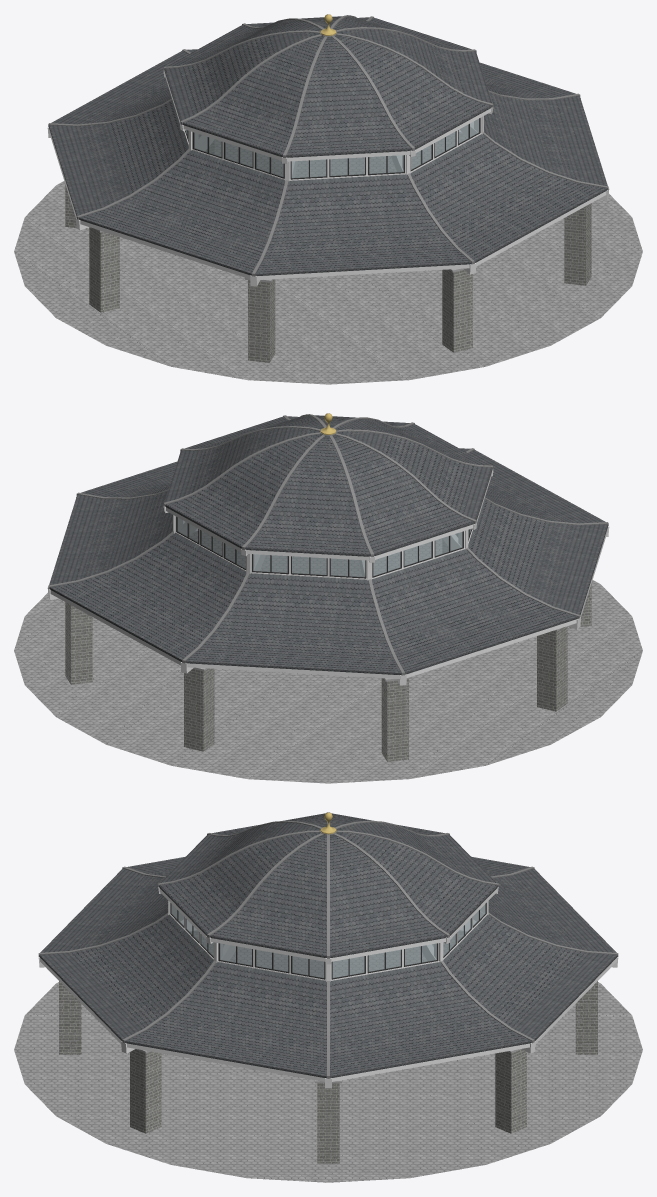
File: pavillion.dae
The picture shows the model from 3 angles, top to bottom: view 1: azimuth 30°, elevation 25°; view 2: azimuth 150°, elevation 25°; view 3: azimuth 270°, elevation 25°; orthographic projection.
Parts seen in each view (by area): view 1: group_21 (×7), group_0, group_20 (×7), stone_pillar (×4), crossbeam_11 (×3), group_6 (×3), crossbeam_12; view 2: group_21 (×7), group_0, group_20 (×7), stone_pillar (×4), crossbeam_11 (×3), group_6 (×3), crossbeam_12; view 3: group_21 (×8), group_0, group_20 (×6), stone_pillar (×5), group_6 (×6), crossbeam_11 (×2).
Part boxes in pixels (x1,y1,x2,y2): group_21 (×7): (48, 50, 607, 276); group_0: (14, 132, 642, 384); group_20 (×7): (164, 16, 492, 157); stone_pillar (×4): (89, 203, 591, 362); crossbeam_11 (×3): (80, 191, 606, 279); group_6 (×3): (291, 155, 403, 178); crossbeam_12: (287, 151, 410, 161); group_21 (×7): (49, 449, 608, 675); group_0: (14, 531, 642, 783); group_20 (×7): (164, 415, 492, 556); stone_pillar (×4): (65, 602, 567, 761); crossbeam_11 (×3): (50, 590, 576, 678); group_6 (×3): (253, 554, 365, 577); crossbeam_12: (246, 550, 369, 560); group_21 (×8): (39, 856, 617, 1078); group_0: (14, 930, 642, 1182); group_20 (×6): (159, 822, 497, 957); stone_pillar (×5): (59, 981, 597, 1163); group_6 (×6): (220, 943, 436, 977); crossbeam_11 (×2): (127, 1043, 529, 1081).
Bounding box in the file's own units: 1102 × 1102 × 459.
11 materials, 10 textured.
